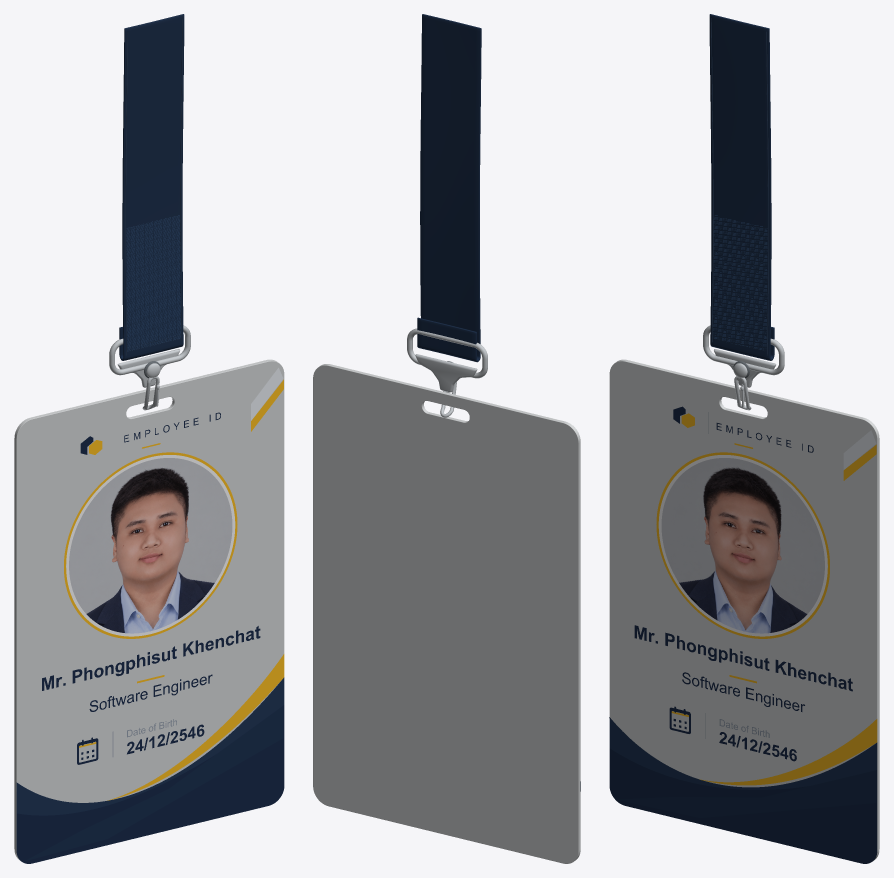
File: employee-id.glb
3 views of the same model, side by side, from view 1: azimuth 30°, elevation 25°; view 2: azimuth 150°, elevation 25°; view 3: azimuth 330°, elevation 25° (orthographic).
Visible parts, largest first — view 1: 01 | PVC card - 54 x 85.6 x 0.76 mm, 13 | Profile1 portrait, 26 | Continuous folded navy ribbon, 02 | Navy lower sweep, 05 | Lower diagonal facet, 28 | Woven twill detail - consolidated, 04 | Tonal blue wave, 12 | White photo keyline, 03 | Gold crescent, 11 | Gold portrait ring, 14 | Employee full name, 20 | Nickel strap loop (+4 smaller); view 2: 01 | PVC card - 54 x 85.6 x 0.76 mm, 26 | Continuous folded navy ribbon, 21 | Stamped clip shoulder, 20 | Nickel strap loop; view 3: 01 | PVC card - 54 x 85.6 x 0.76 mm, 13 | Profile1 portrait, 26 | Continuous folded navy ribbon, 02 | Navy lower sweep, 05 | Lower diagonal facet, 28 | Woven twill detail - consolidated, 04 | Tonal blue wave, 12 | White photo keyline, 03 | Gold crescent, 11 | Gold portrait ring, 14 | Employee full name, 20 | Nickel strap loop (+4 smaller).
Part boxes in pixels (left/top/right/bottom): 01 | PVC card - 54 x 85.6 x 0.76 mm: left=14, top=359, right=284, bottom=860; 13 | Profile1 portrait: left=69, top=458, right=232, bottom=633; 26 | Continuous folded navy ribbon: left=119, top=14, right=184, bottom=360; 02 | Navy lower sweep: left=16, top=684, right=284, bottom=863; 05 | Lower diagonal facet: left=24, top=705, right=283, bottom=861; 28 | Woven twill detail - consolidated: left=126, top=215, right=180, bottom=351; 04 | Tonal blue wave: left=16, top=677, right=284, bottom=815; 12 | White photo keyline: left=66, top=455, right=235, bottom=636; 03 | Gold crescent: left=107, top=654, right=284, bottom=800; 11 | Gold portrait ring: left=64, top=452, right=237, bottom=638; 14 | Employee full name: left=42, top=626, right=260, bottom=690; 20 | Nickel strap loop: left=109, top=325, right=190, bottom=375; 01 | PVC card - 54 x 85.6 x 0.76 mm: left=313, top=364, right=580, bottom=863; 26 | Continuous folded navy ribbon: left=417, top=14, right=481, bottom=362; 21 | Stamped clip shoulder: left=415, top=354, right=477, bottom=392; 20 | Nickel strap loop: left=407, top=328, right=487, bottom=378; 01 | PVC card - 54 x 85.6 x 0.76 mm: left=609, top=359, right=879, bottom=860; 13 | Profile1 portrait: left=661, top=458, right=824, bottom=633; 26 | Continuous folded navy ribbon: left=709, top=14, right=774, bottom=360; 02 | Navy lower sweep: left=609, top=718, right=877, bottom=863; 05 | Lower diagonal facet: left=617, top=770, right=876, bottom=817; 28 | Woven twill detail - consolidated: left=713, top=215, right=767, bottom=350; 04 | Tonal blue wave: left=609, top=717, right=876, bottom=789; 12 | White photo keyline: left=658, top=455, right=827, bottom=636; 03 | Gold crescent: left=699, top=719, right=877, bottom=785; 11 | Gold portrait ring: left=656, top=452, right=829, bottom=638; 14 | Employee full name: left=634, top=625, right=852, bottom=691; 20 | Nickel strap loop: left=703, top=325, right=784, bottom=375.
Size of the model in its own units: 0.54 by 1.57 by 0.0341.
Materials: 14 (1 with a texture image).
